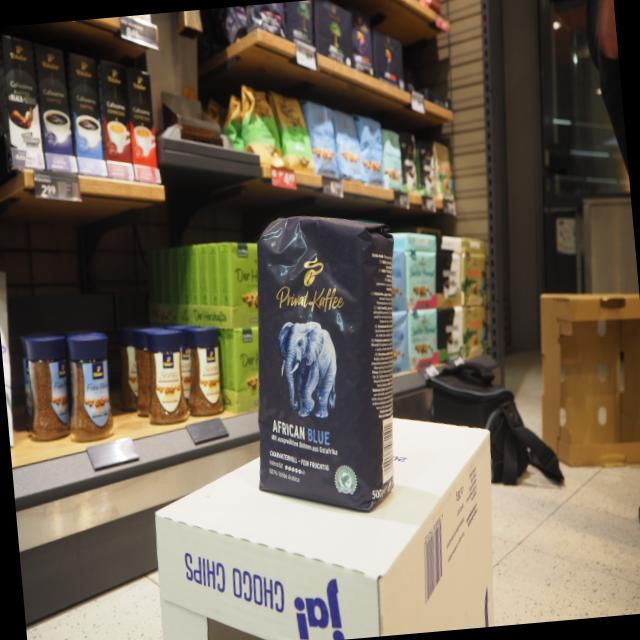AB Bohne: (256, 203, 398, 524)
